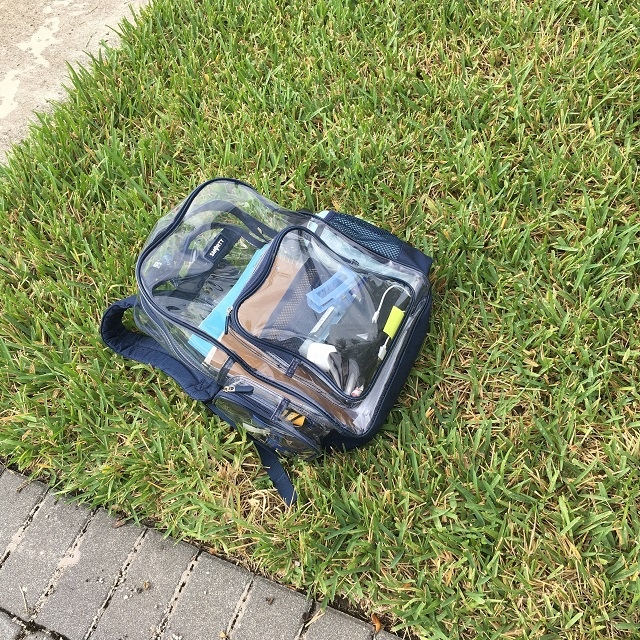clearbackpack: (97, 177, 441, 452)
